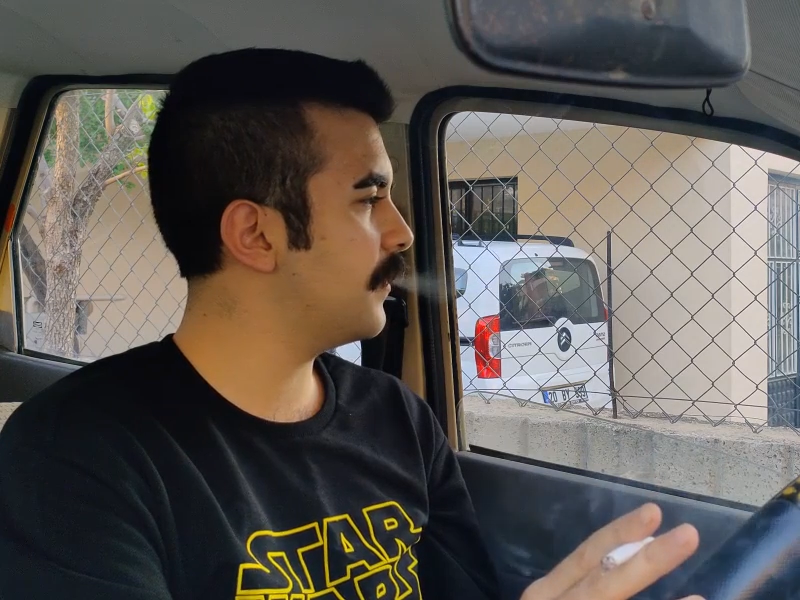sigara: (597, 532, 658, 574)
